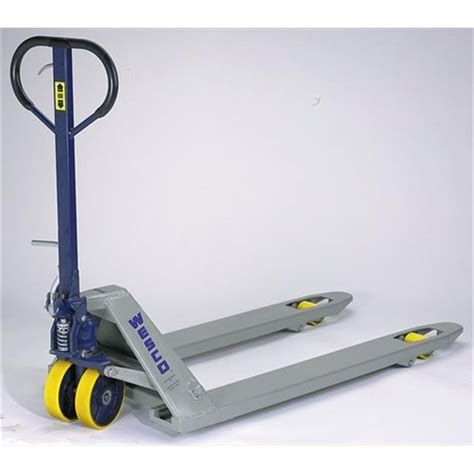Pallet Jack: (9, 34, 466, 437)
